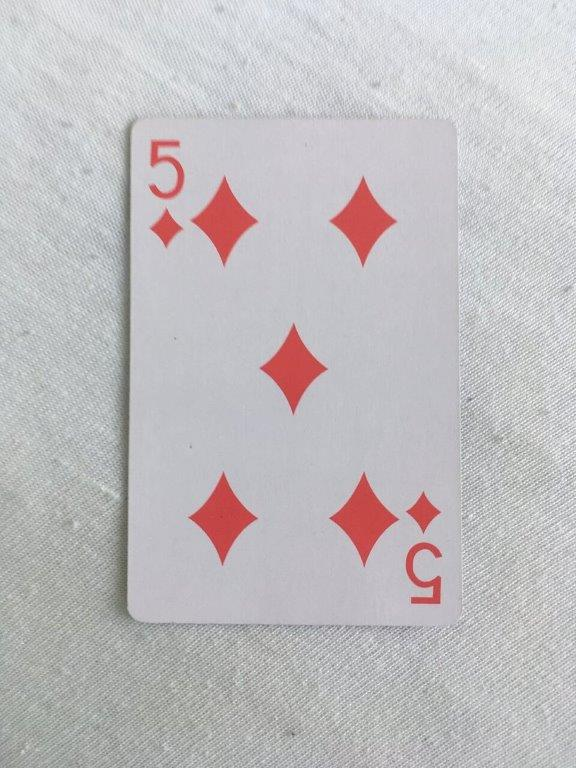5D: (122, 113, 468, 630)
